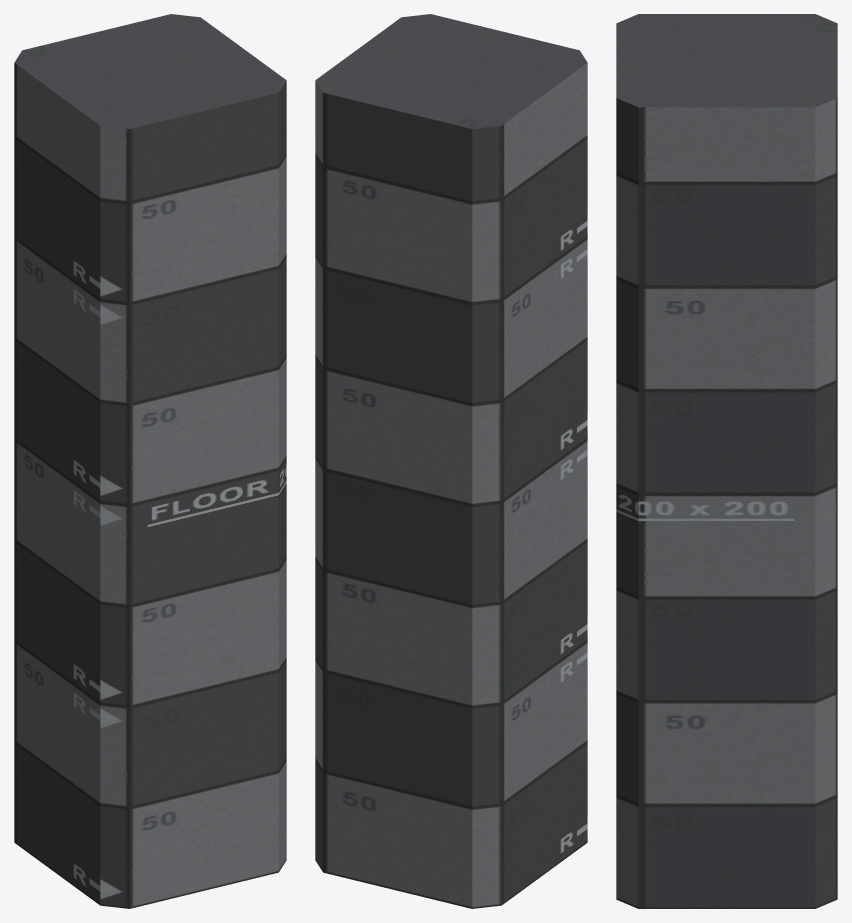
File: SM_dev_pillar_100_x_300.fbx
3 views of the same model, side by side, from view 1: azimuth 30°, elevation 25°; view 2: azimuth 150°, elevation 25°; view 3: azimuth 270°, elevation 25° (orthographic). The views are drawn at different scales.
Parts seen in each view (by area): view 1: pCube12; view 2: pCube12; view 3: pCube12.
Part boxes in pixels (x1,y1,x2,y2): pCube12: (14, 14, 286, 908); pCube12: (315, 14, 587, 908); pCube12: (616, 14, 837, 908).
Size of the model in its own units: 1 by 4 by 1.
